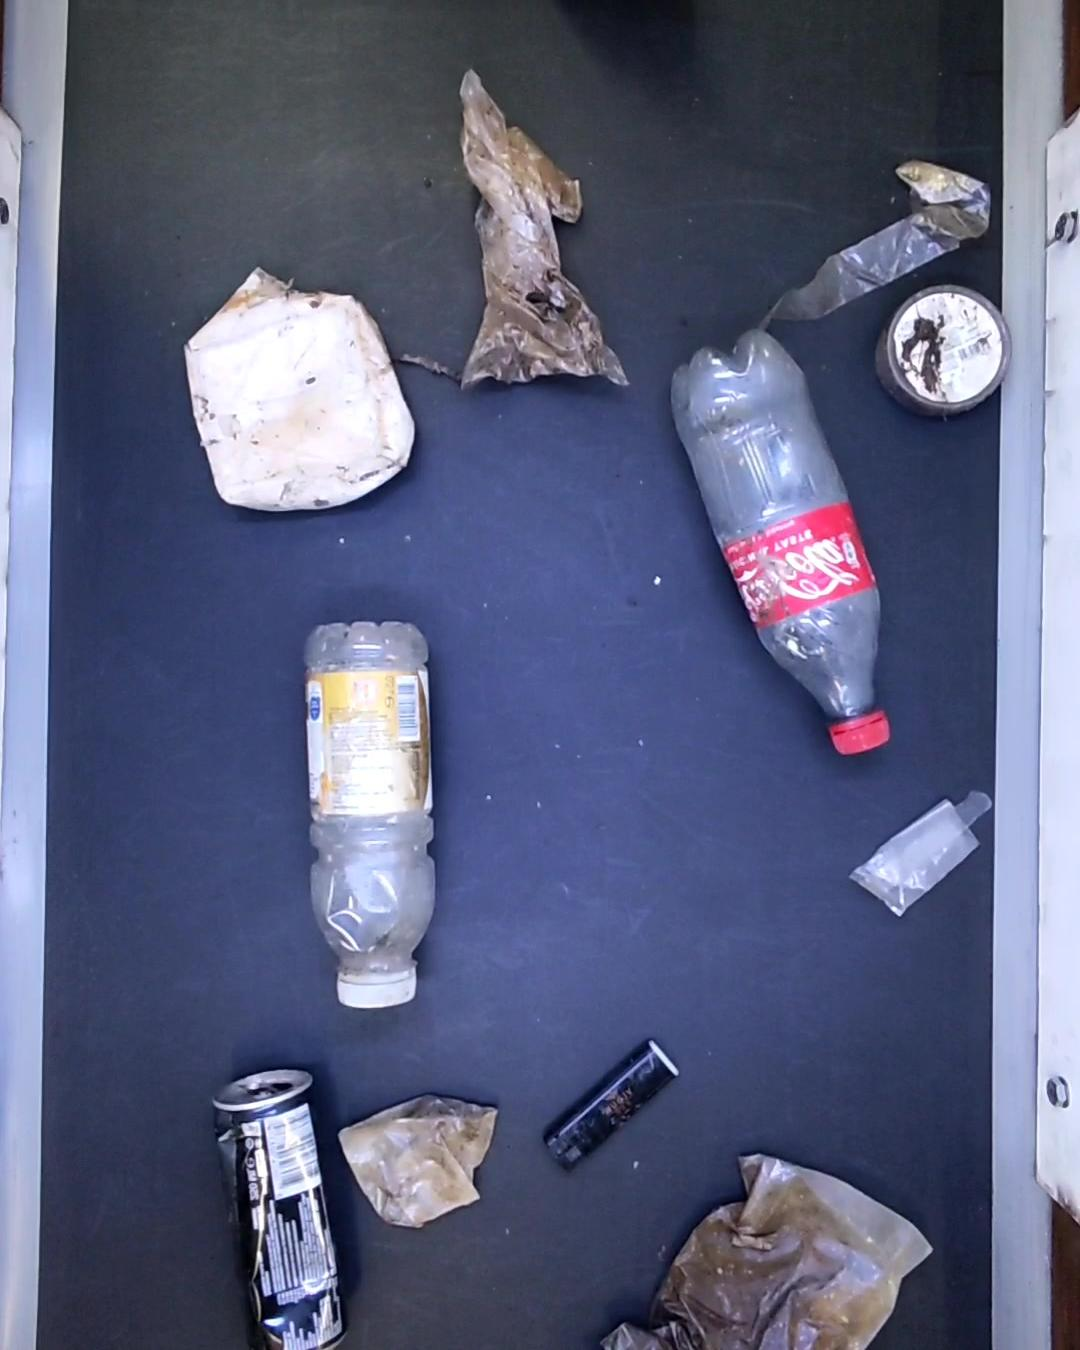Drankblikjes: (210, 1069, 354, 1350)
Drankflessen - 1-2 liter: (662, 326, 892, 758), (306, 617, 440, 1009)
Plastic folies of stukken daarvan 2.5- 50 cm: (609, 1141, 940, 1350), (430, 67, 629, 399), (754, 159, 1000, 331), (335, 1091, 500, 1235), (853, 780, 994, 918)
